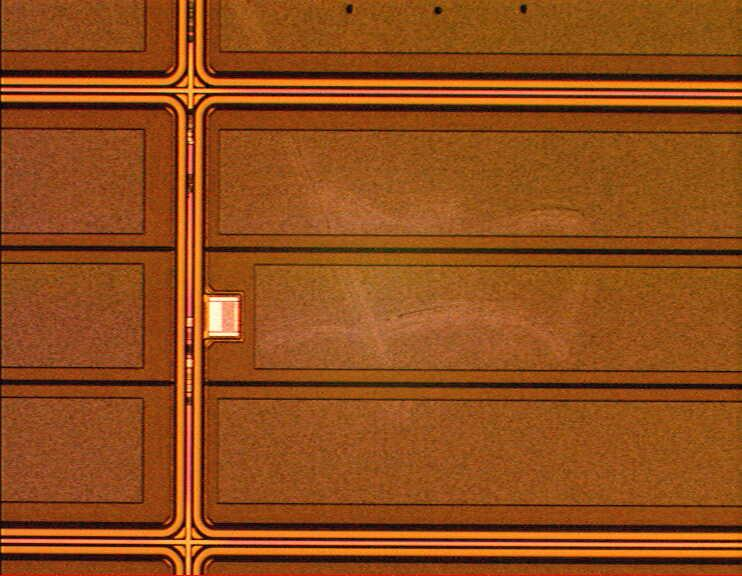SCRATCH: (225, 1, 603, 429)
